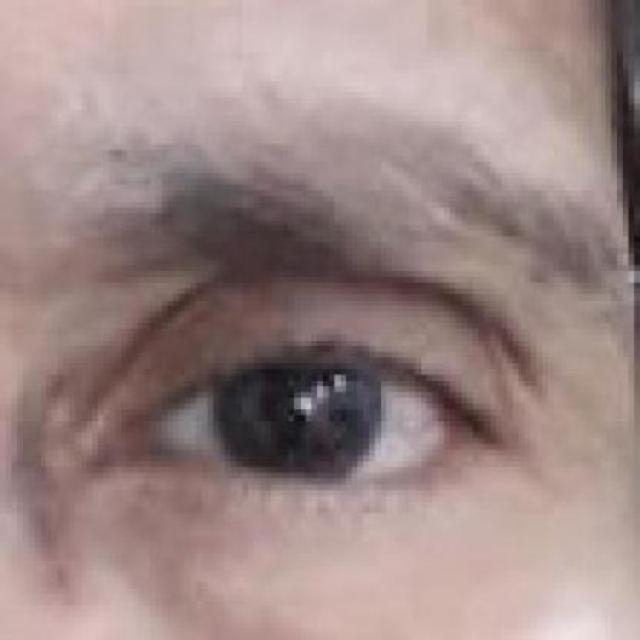awake: (103, 271, 502, 531)
